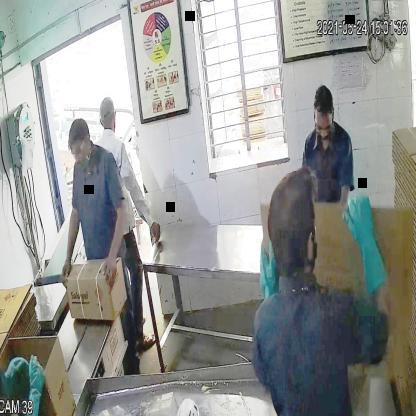goggles: (66, 139, 92, 162), (311, 117, 335, 138)
